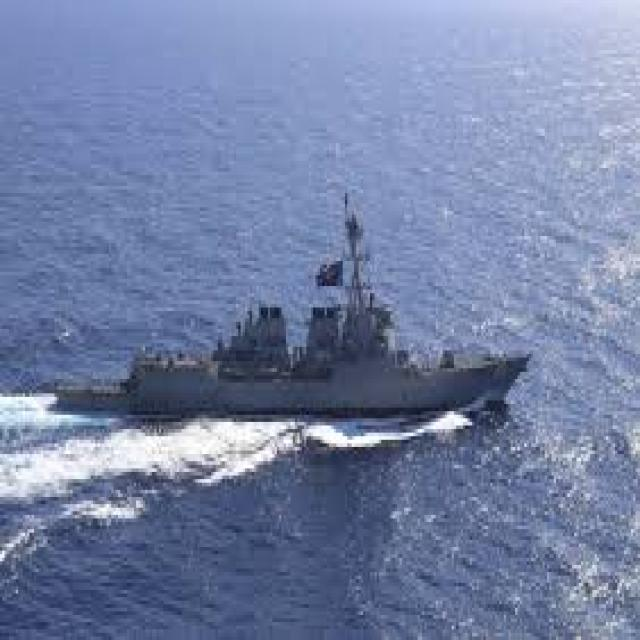navalvessels: (65, 210, 512, 418)
